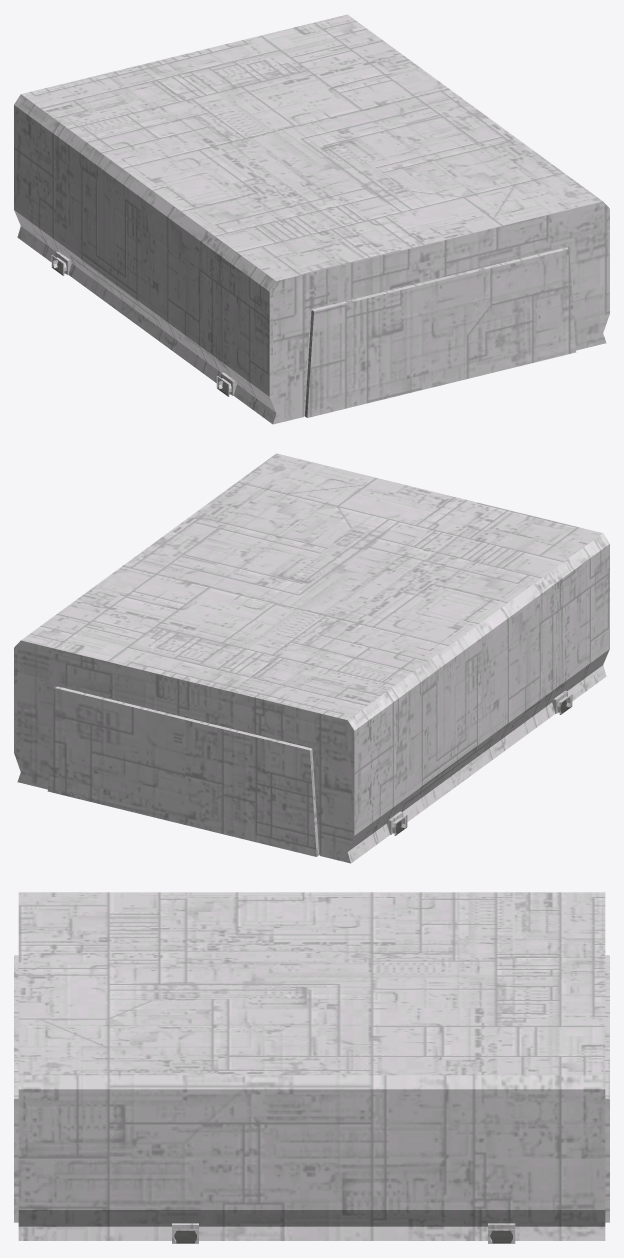
File: thm_spc_star_destroyer_s01_r1_mainhangar_mesh_r1.fbx
3 views of the same model, one above another, from view 1: azimuth 30°, elevation 25°; view 2: azimuth 150°, elevation 25°; view 3: azimuth 270°, elevation 25° (orthographic). The views are drawn at different scales.
Visible parts, largest first — view 1: mesh_node; view 2: mesh_node; view 3: mesh_node.
Boxes of the visible parts, box(x1,y1,x2,y2) form: mesh_node: box(14, 14, 609, 424); mesh_node: box(14, 453, 609, 863); mesh_node: box(14, 892, 609, 1243).
Size of the model in its own units: 101 by 40 by 132.
Materials: 2 (2 with a texture image).
